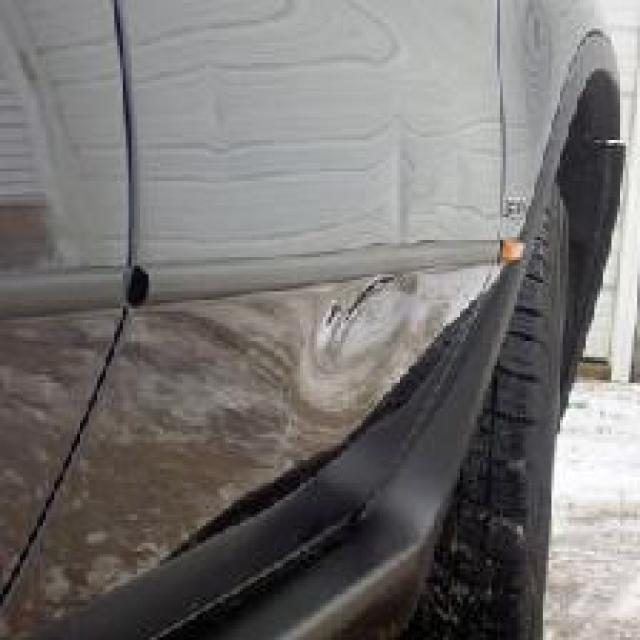damaged: (163, 255, 483, 560)
